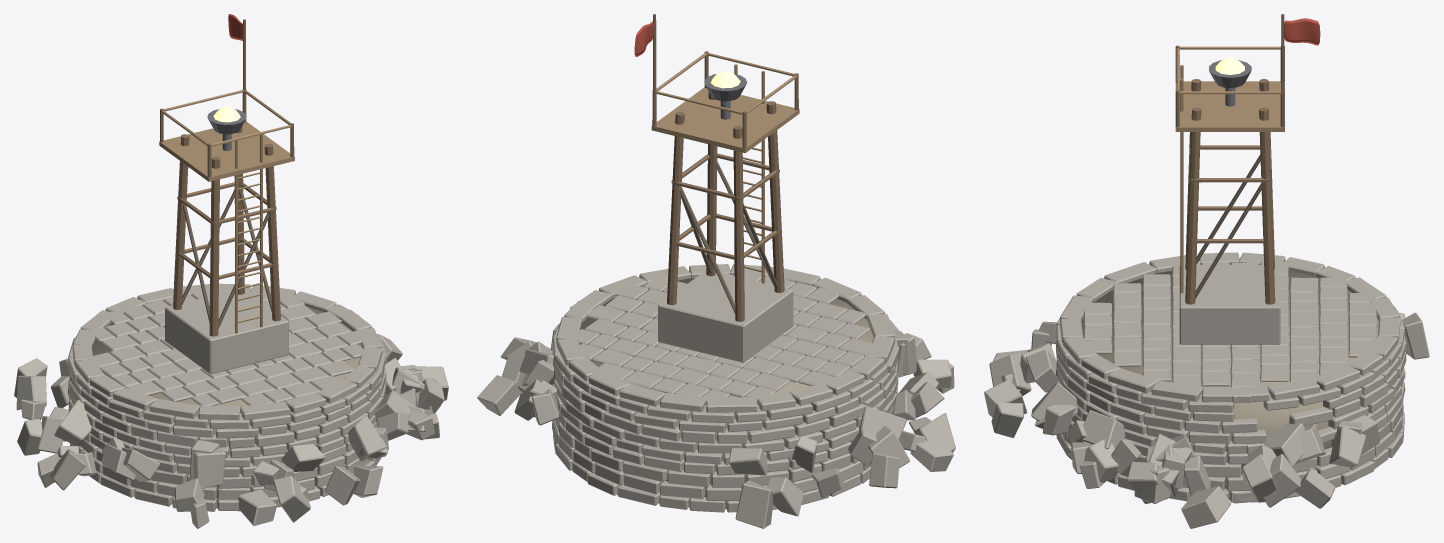
The model's file is H02_防波堤端头烽火台.fbx.
The picture shows the model from 3 angles, left to right: view 1: azimuth 30°, elevation 25°; view 2: azimuth 150°, elevation 25°; view 3: azimuth 270°, elevation 25°; orthographic projection. The views are drawn at different scales.
Parts seen in each view (by area): view 1: H02_抛石, H02_台壁条石, H02_台面石板, H02_压阑石, H02_台座, H02_立柱, H02_平台, H02_梯, H02_剪刀撑, H02_横撑, H02_台芯, H02_栏杆 (+2 smaller); view 2: H02_台壁条石, H02_台面石板, H02_抛石, H02_压阑石, H02_台座, H02_立柱, H02_平台, H02_横撑, H02_剪刀撑, H02_台芯, H02_栏杆, H02_梯 (+2 smaller); view 3: H02_抛石, H02_台面石板, H02_台壁条石, H02_压阑石, H02_台座, H02_立柱, H02_平台, H02_台芯, H02_横撑, H02_剪刀撑, H02_栏杆, H02_信号旗 (+3 smaller).
Part boxes in pixels (x1,y1,x2,y2): H02_抛石: [14, 334, 448, 528]; H02_台壁条石: [67, 335, 386, 511]; H02_台面石板: [88, 287, 371, 406]; H02_压阑石: [72, 283, 382, 419]; H02_台座: [165, 289, 288, 373]; H02_立柱: [173, 126, 280, 336]; H02_平台: [159, 121, 294, 181]; H02_梯: [235, 134, 262, 333]; H02_剪刀撑: [182, 189, 271, 328]; H02_横撑: [177, 182, 276, 279]; H02_台芯: [92, 297, 361, 508]; H02_栏杆: [161, 90, 291, 146]; H02_台壁条石: [552, 270, 899, 512]; H02_台面石板: [569, 270, 877, 402]; H02_抛石: [477, 320, 955, 528]; H02_压阑石: [556, 264, 895, 412]; H02_台座: [658, 270, 793, 362]; H02_立柱: [667, 92, 784, 321]; H02_平台: [651, 87, 799, 153]; H02_横撑: [671, 153, 779, 259]; H02_剪刀撑: [679, 161, 777, 313]; H02_台芯: [579, 278, 873, 508]; H02_栏杆: [654, 53, 797, 114]; H02_梯: [734, 64, 764, 283]; H02_抛石: [984, 312, 1429, 528]; H02_台面石板: [1083, 262, 1376, 388]; H02_台壁条石: [1056, 258, 1406, 503]; H02_压阑石: [1060, 252, 1400, 402]; H02_台座: [1179, 265, 1280, 344]; H02_立柱: [1185, 79, 1275, 304]; H02_平台: [1175, 81, 1284, 131]; H02_台芯: [1081, 270, 1378, 499]; H02_横撑: [1189, 145, 1270, 243]; H02_剪刀撑: [1195, 154, 1262, 298]; H02_栏杆: [1176, 46, 1281, 94]; H02_信号旗: [1284, 18, 1320, 45].
Bounding box in the file's own units: 1240 × 1151 × 1060.
